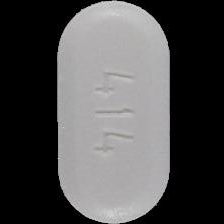49999-487: (0, 0, 224, 224)
